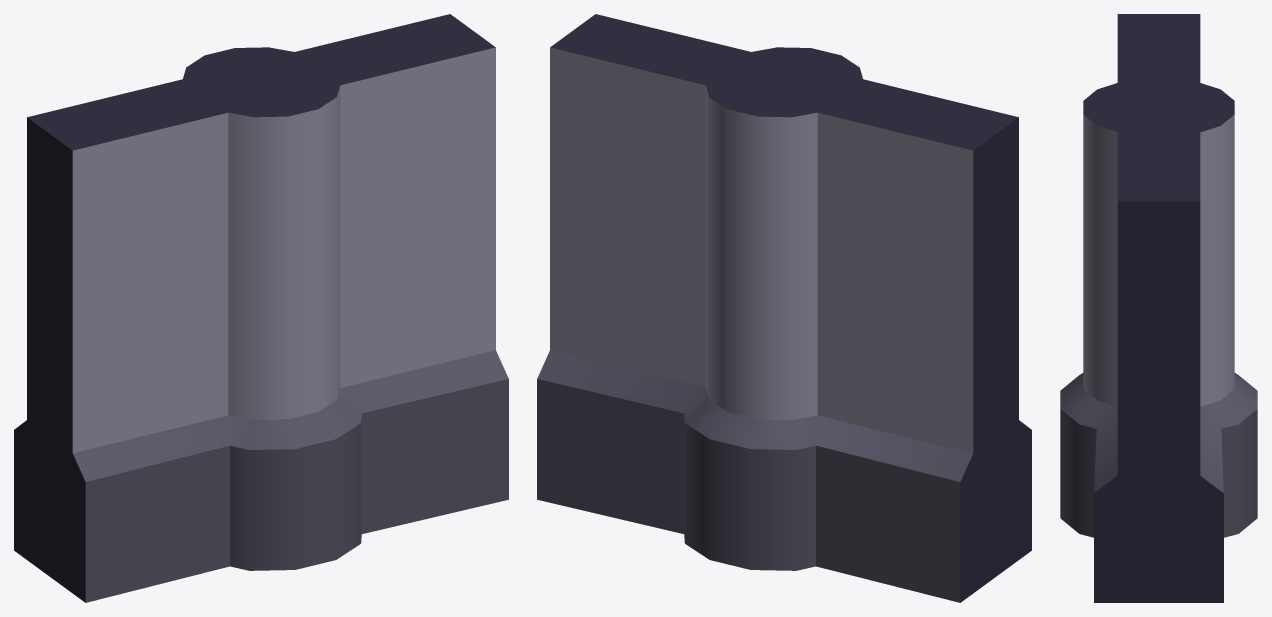
Rendered from WallPillar.fbx.
3 renders of one model, left to right at view 1: azimuth 30°, elevation 25°; view 2: azimuth 150°, elevation 25°; view 3: azimuth 270°, elevation 25°, orthographic. The views are drawn at different scales.
Parts seen in each view (by area): view 1: WallPillared; view 2: WallPillared; view 3: WallPillared.
Boxes of the visible parts, x1,y1,x2,y2 form: WallPillared: (14,14,508,602); WallPillared: (537,14,1031,602); WallPillared: (1060,14,1257,602).
Size of the model in its own units: 100 by 100 by 44.5.
